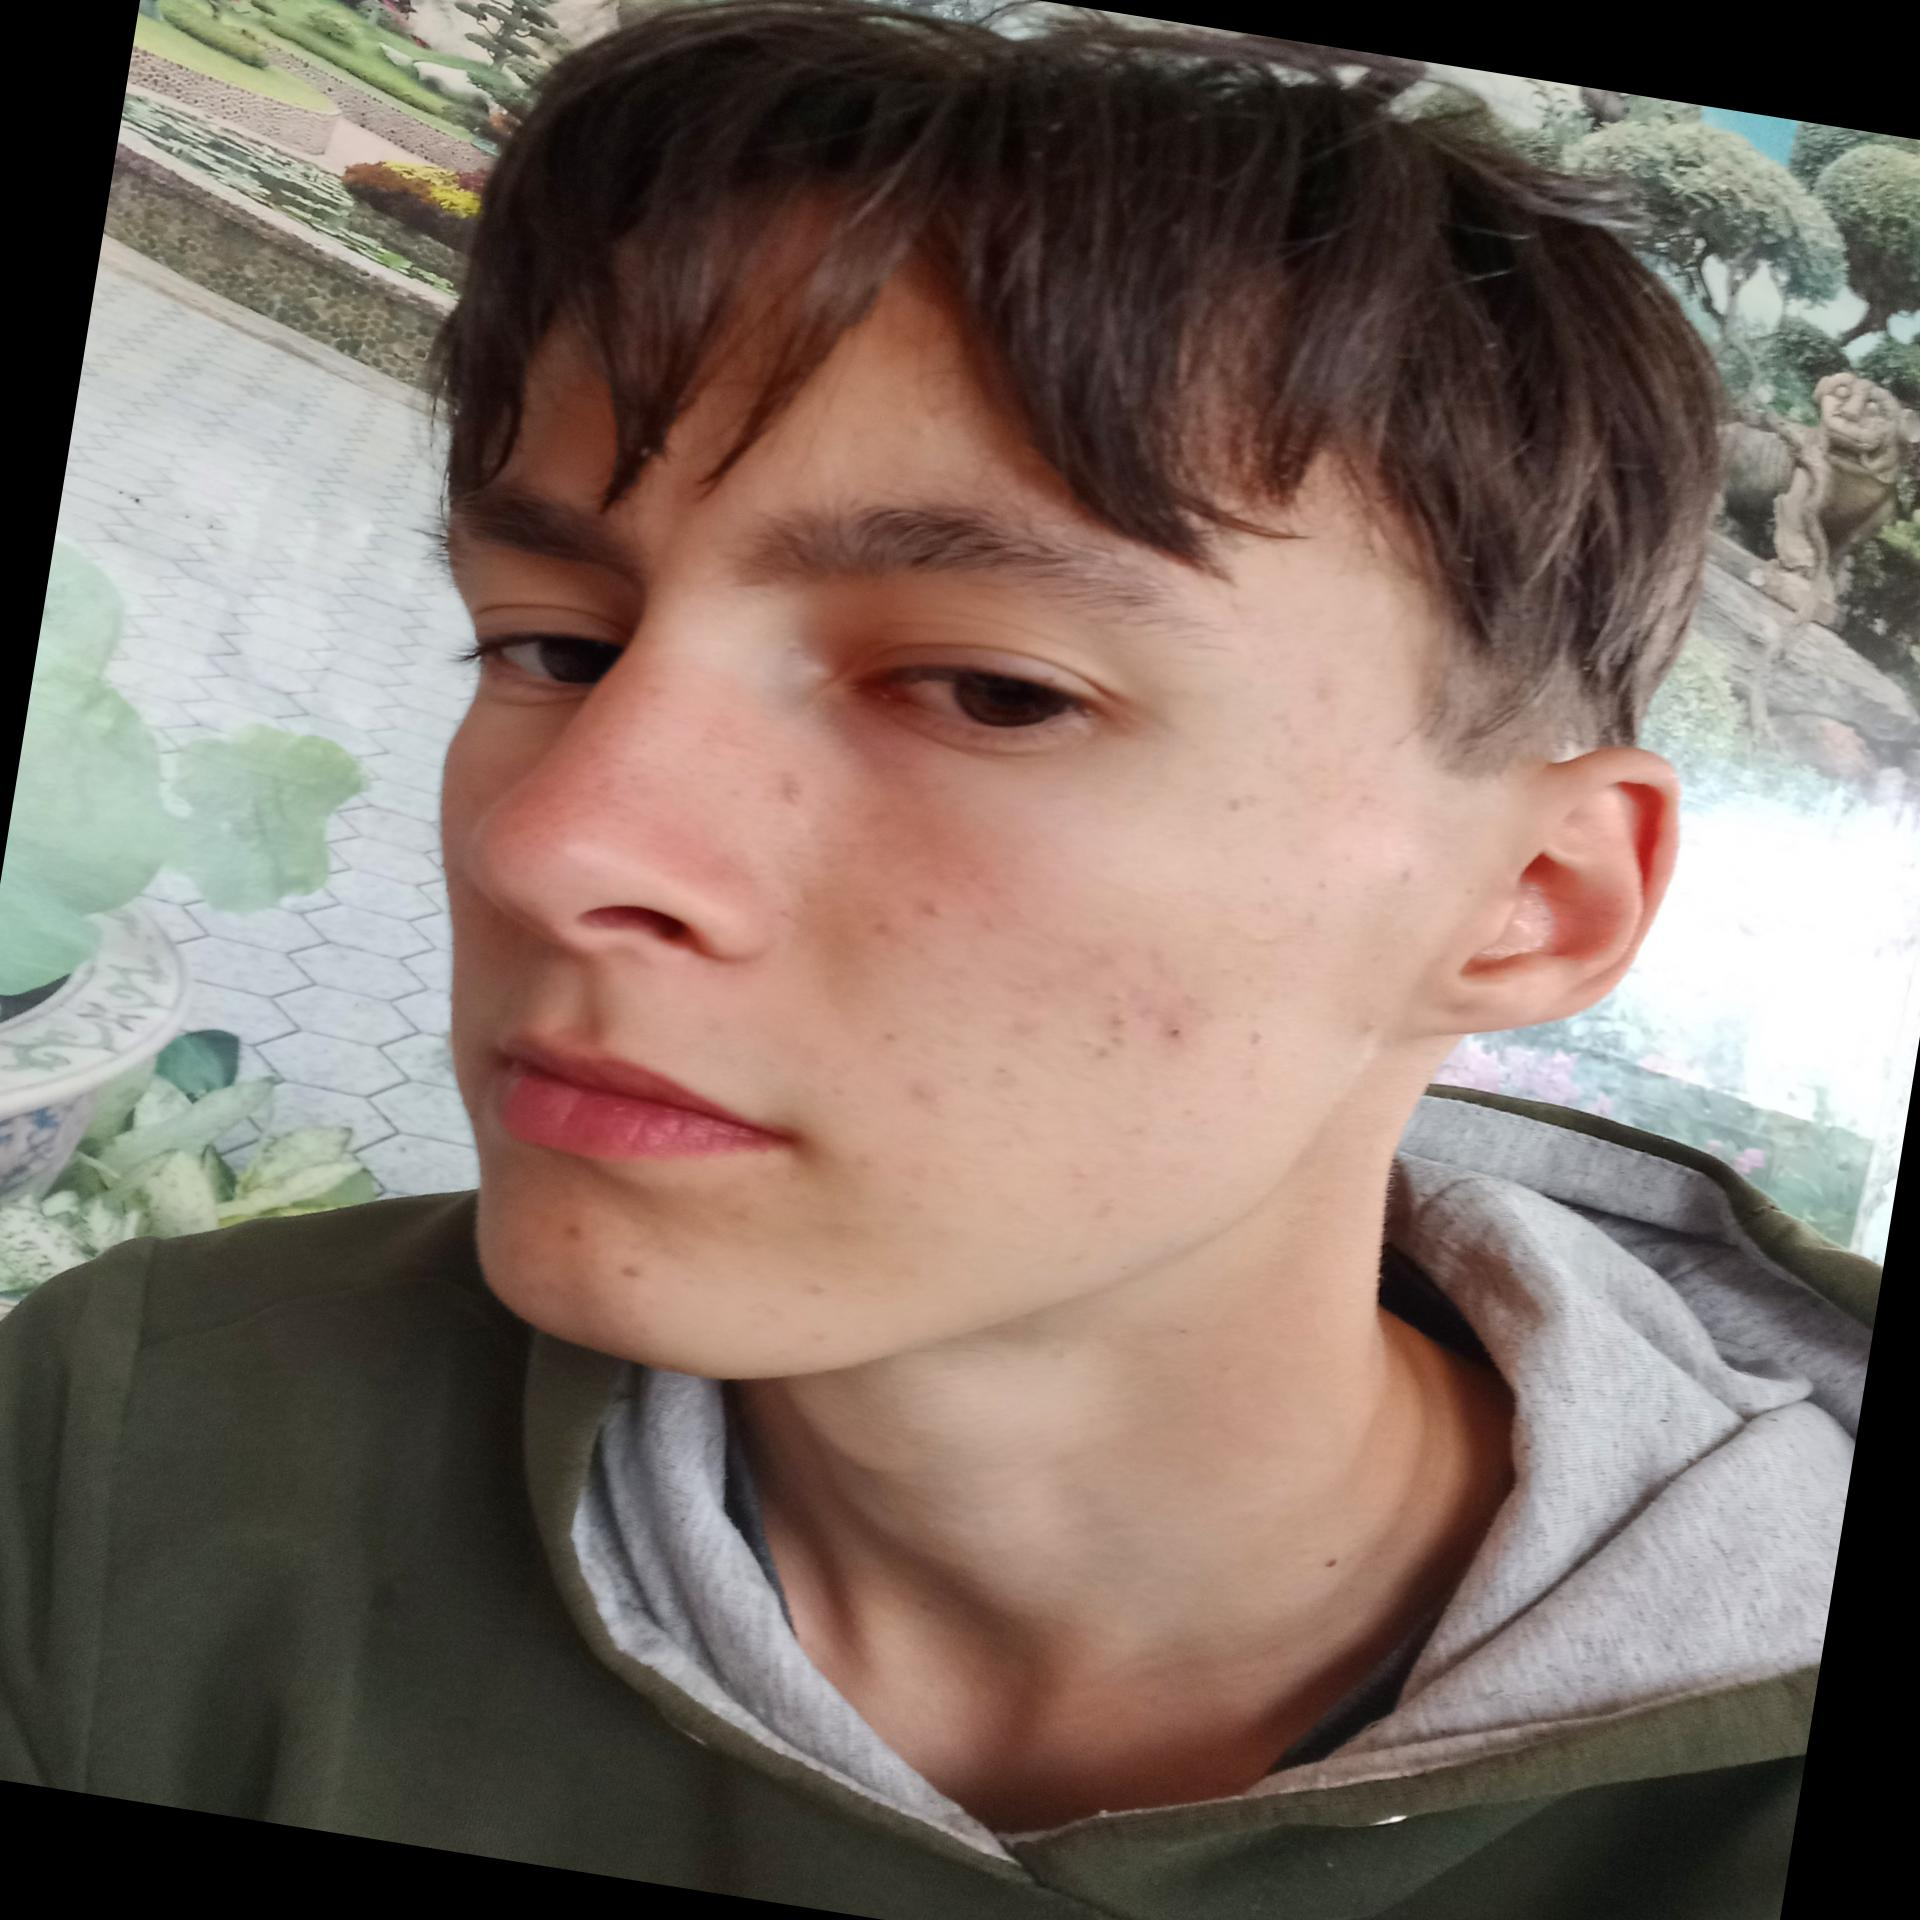Acne: (767, 767, 811, 812)
Blackhead: (1067, 944, 1220, 1083), (1271, 684, 1394, 826), (1222, 993, 1282, 1118), (860, 1027, 948, 1111), (974, 1006, 1048, 1090), (863, 890, 951, 955), (1257, 867, 1333, 927), (1166, 1095, 1236, 1141), (1217, 782, 1259, 819)
